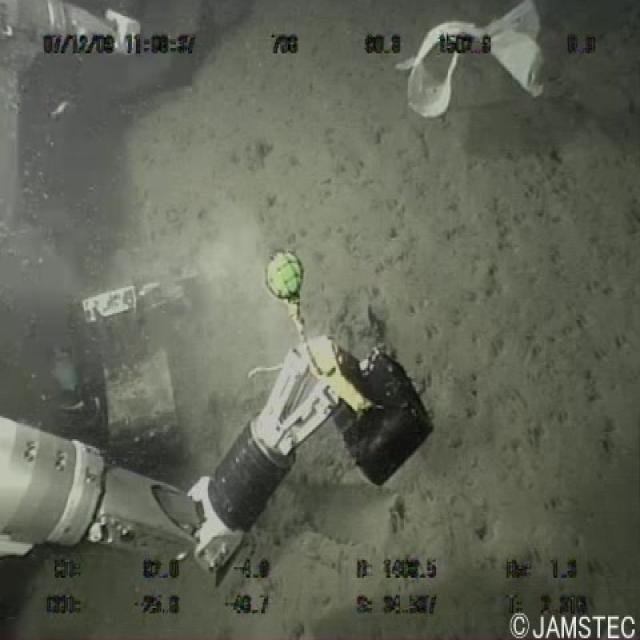plastic: (389, 0, 548, 128)
